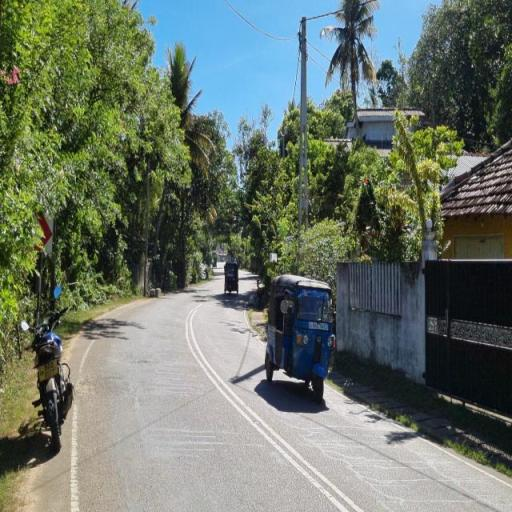double_white_line: (188, 301, 366, 512)
